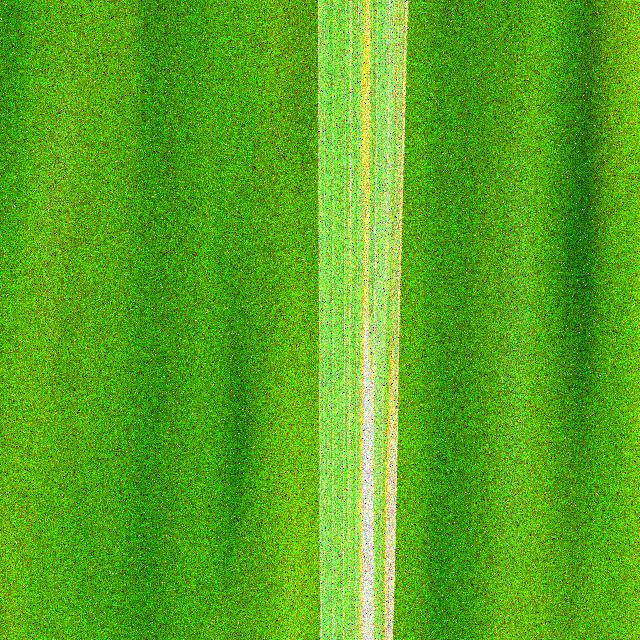BLB: (360, 302, 374, 640), (384, 347, 397, 640)
